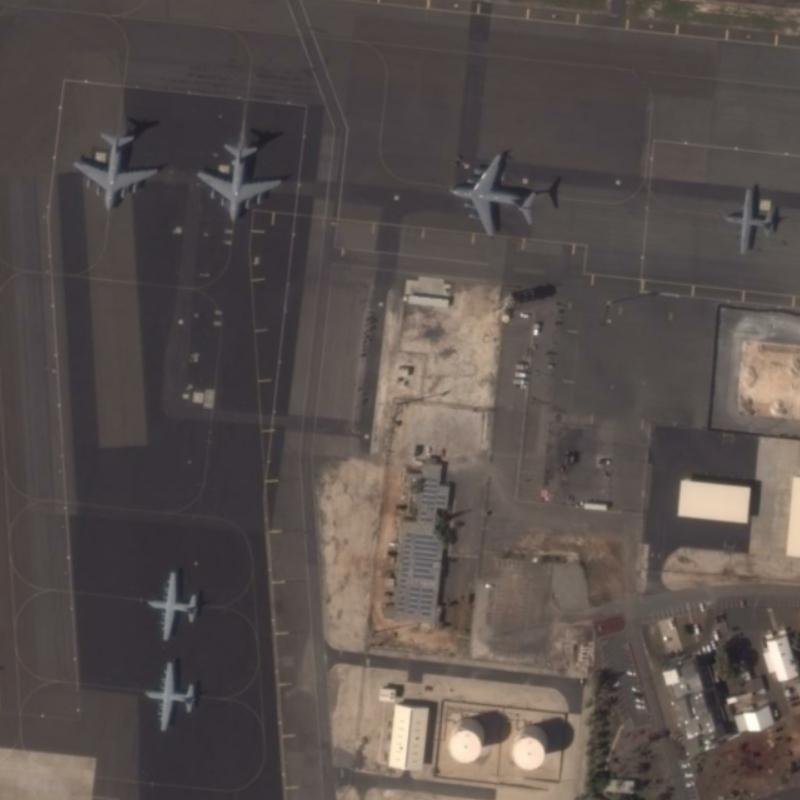A2: (139, 566, 199, 643), (138, 658, 198, 734), (721, 183, 777, 256)
A3: (443, 149, 538, 240), (193, 136, 284, 225), (70, 128, 160, 216)
